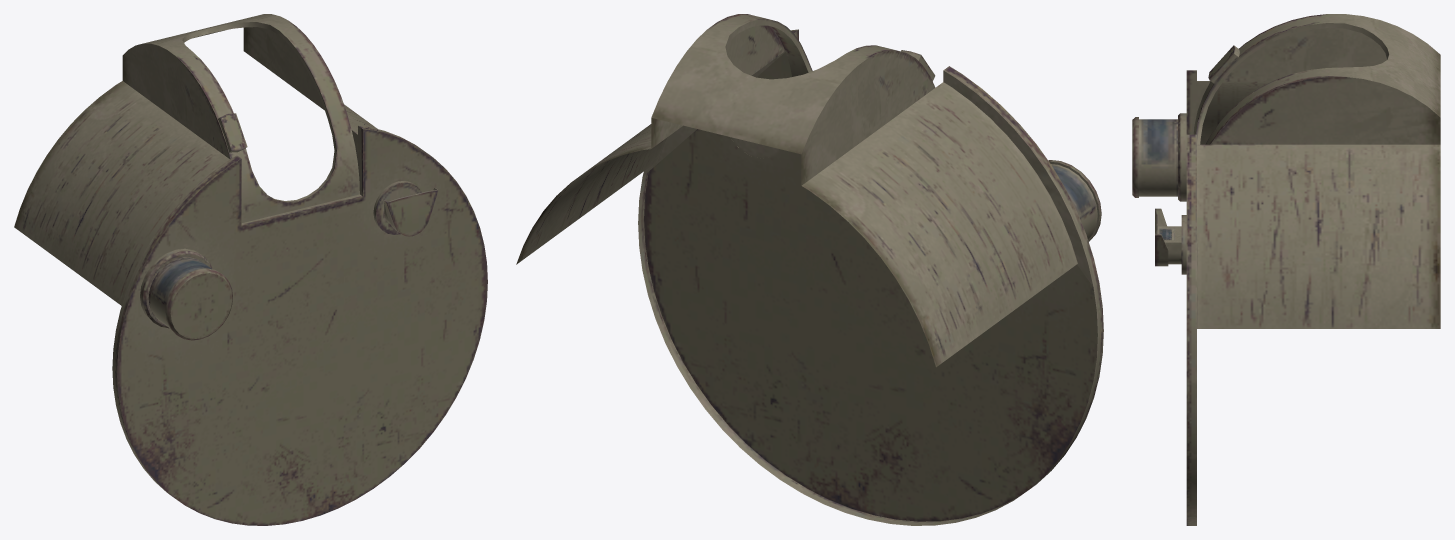
File: Turret_01.glb
The picture shows the model from 3 angles, left to right: view 1: azimuth 30°, elevation 25°; view 2: azimuth 150°, elevation 25°; view 3: azimuth 270°, elevation 25°; orthographic projection. The views are drawn at different scales.
Parts seen in each view (by area): view 1: set_0_group_0; view 2: set_0_group_0; view 3: set_0_group_0.
Part boxes in pixels (x1,y1,x2,y2): set_0_group_0: [14, 14, 487, 525]; set_0_group_0: [516, 14, 1103, 525]; set_0_group_0: [1132, 14, 1440, 525].
Bounding box in the file's own units: 2.13 × 2.37 × 1.44.
Materials: 1 (1 with a texture image).
